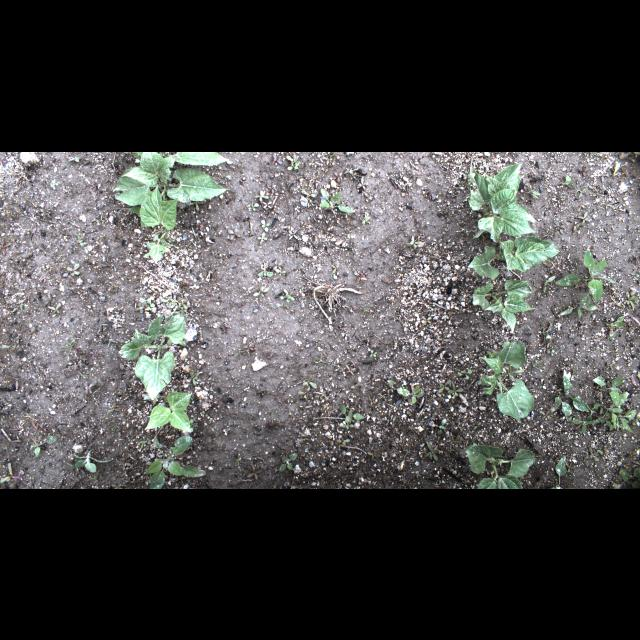crop: (111, 152, 232, 262), (117, 312, 187, 398), (468, 160, 540, 240), (478, 338, 538, 422), (466, 237, 562, 280), (470, 278, 538, 334), (143, 437, 211, 488), (465, 442, 537, 488), (144, 390, 202, 430)
weed: (556, 240, 616, 326), (592, 370, 638, 432), (552, 366, 592, 434), (316, 186, 358, 212), (72, 448, 110, 476), (31, 429, 64, 459), (393, 382, 427, 408), (338, 402, 368, 428), (294, 371, 320, 401), (273, 449, 301, 475), (553, 455, 575, 487), (434, 378, 468, 398), (0, 458, 26, 484), (248, 186, 274, 212), (602, 316, 628, 342), (404, 228, 430, 252), (610, 464, 638, 486), (568, 208, 592, 232), (518, 180, 542, 204), (422, 438, 442, 466), (256, 213, 274, 243), (162, 293, 192, 311), (56, 334, 80, 356), (554, 171, 578, 193), (329, 432, 356, 451), (538, 322, 554, 352), (133, 291, 155, 311), (78, 366, 102, 384), (278, 155, 302, 173), (278, 286, 298, 306), (254, 260, 274, 280), (64, 262, 86, 280), (435, 415, 451, 439), (138, 436, 164, 450), (568, 180, 586, 200), (542, 273, 560, 293), (621, 290, 637, 312), (454, 364, 476, 380), (245, 459, 262, 478), (43, 300, 63, 316), (9, 298, 29, 314), (224, 226, 244, 242), (72, 234, 90, 250), (591, 176, 609, 192), (416, 313, 439, 325), (24, 322, 38, 340), (1, 238, 13, 258), (188, 370, 202, 384), (67, 153, 85, 163), (368, 345, 379, 361), (1, 342, 21, 350)
